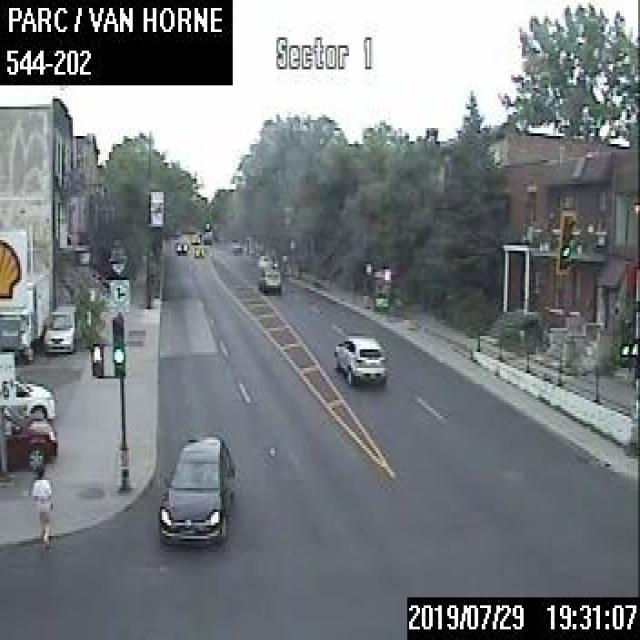pedestrian: (28, 464, 56, 549)
vehicle: (156, 432, 234, 547), (0, 268, 49, 361), (0, 401, 56, 470), (332, 332, 386, 384), (6, 374, 55, 418), (43, 302, 78, 350), (256, 266, 280, 292), (256, 253, 271, 267), (174, 238, 187, 252)
